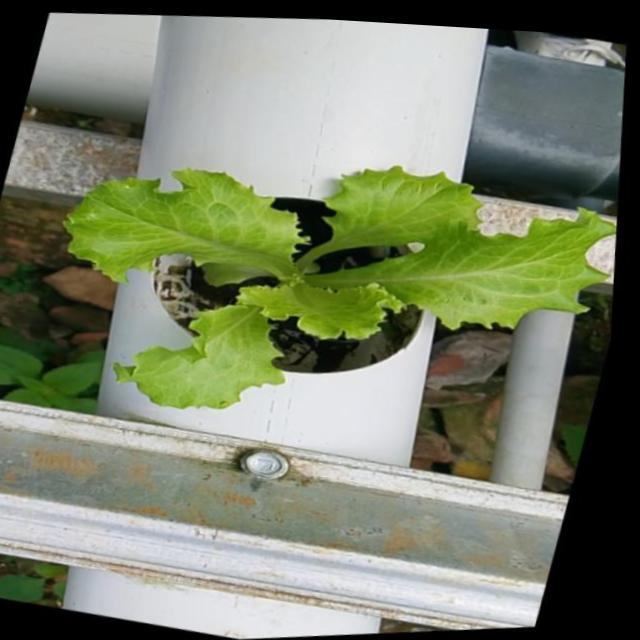Baby: (56, 159, 614, 400)
